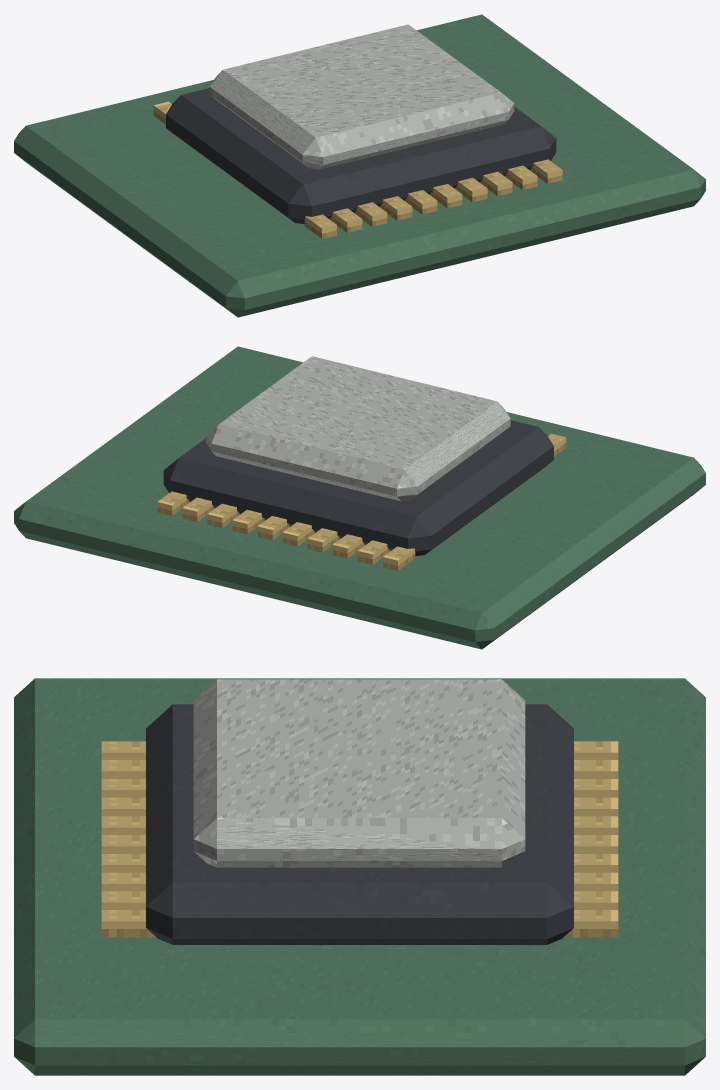
Rendered from processor.glb.
3 views of the same model, one above another, from view 1: azimuth 30°, elevation 25°; view 2: azimuth 150°, elevation 25°; view 3: azimuth 270°, elevation 25° (orthographic). The views are drawn at different scales.
Parts seen in each view (by area): view 1: block_circuit substrate, block_heat spreader, block_processor package, block_chip contact (×10); view 2: block_circuit substrate, block_heat spreader, block_processor package, block_chip contact (×10); view 3: block_circuit substrate, block_heat spreader, block_processor package, block_chip contact (×20).
Boxes of the visible parts, <box> form: block_circuit substrate: <box>14,14,705,317</box>; block_heat spreader: <box>209,24,514,169</box>; block_processor package: <box>166,88,556,223</box>; block_chip contact (×10): <box>304,159,562,238</box>; block_circuit substrate: <box>14,346,705,649</box>; block_heat spreader: <box>206,356,510,501</box>; block_processor package: <box>163,420,553,555</box>; block_chip contact (×10): <box>157,491,415,570</box>; block_circuit substrate: <box>14,678,705,1075</box>; block_heat spreader: <box>193,679,525,867</box>; block_processor package: <box>146,704,573,944</box>; block_chip contact (×20): <box>101,741,618,937</box>.
Bounding box in the file's own units: 0.1184 × 0.0243 × 0.0965.
1 material, 1 textured.
